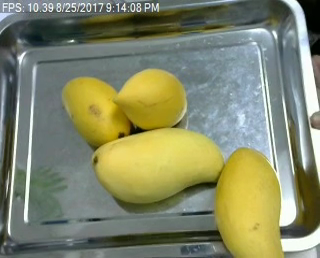Mango: (87, 126, 230, 202), (212, 145, 288, 257), (110, 63, 190, 133), (59, 76, 134, 146)
